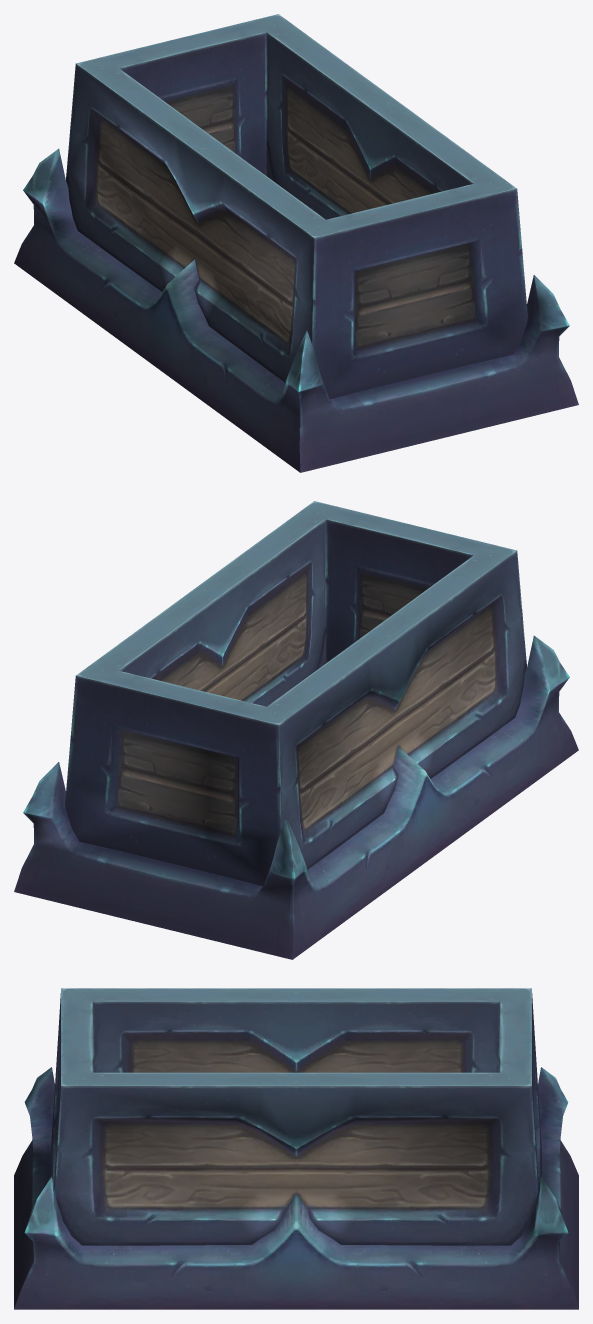
3 views of the same model, one above another, from view 1: azimuth 30°, elevation 25°; view 2: azimuth 150°, elevation 25°; view 3: azimuth 270°, elevation 25° (orthographic).
Size of the model in its own units: 1.11 by 0.7938 by 1.98.
Materials: 1 (1 with a texture image).
